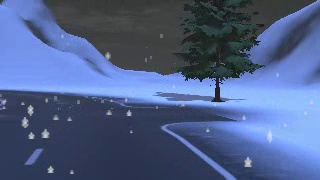Lane: (0, 90, 241, 179)
